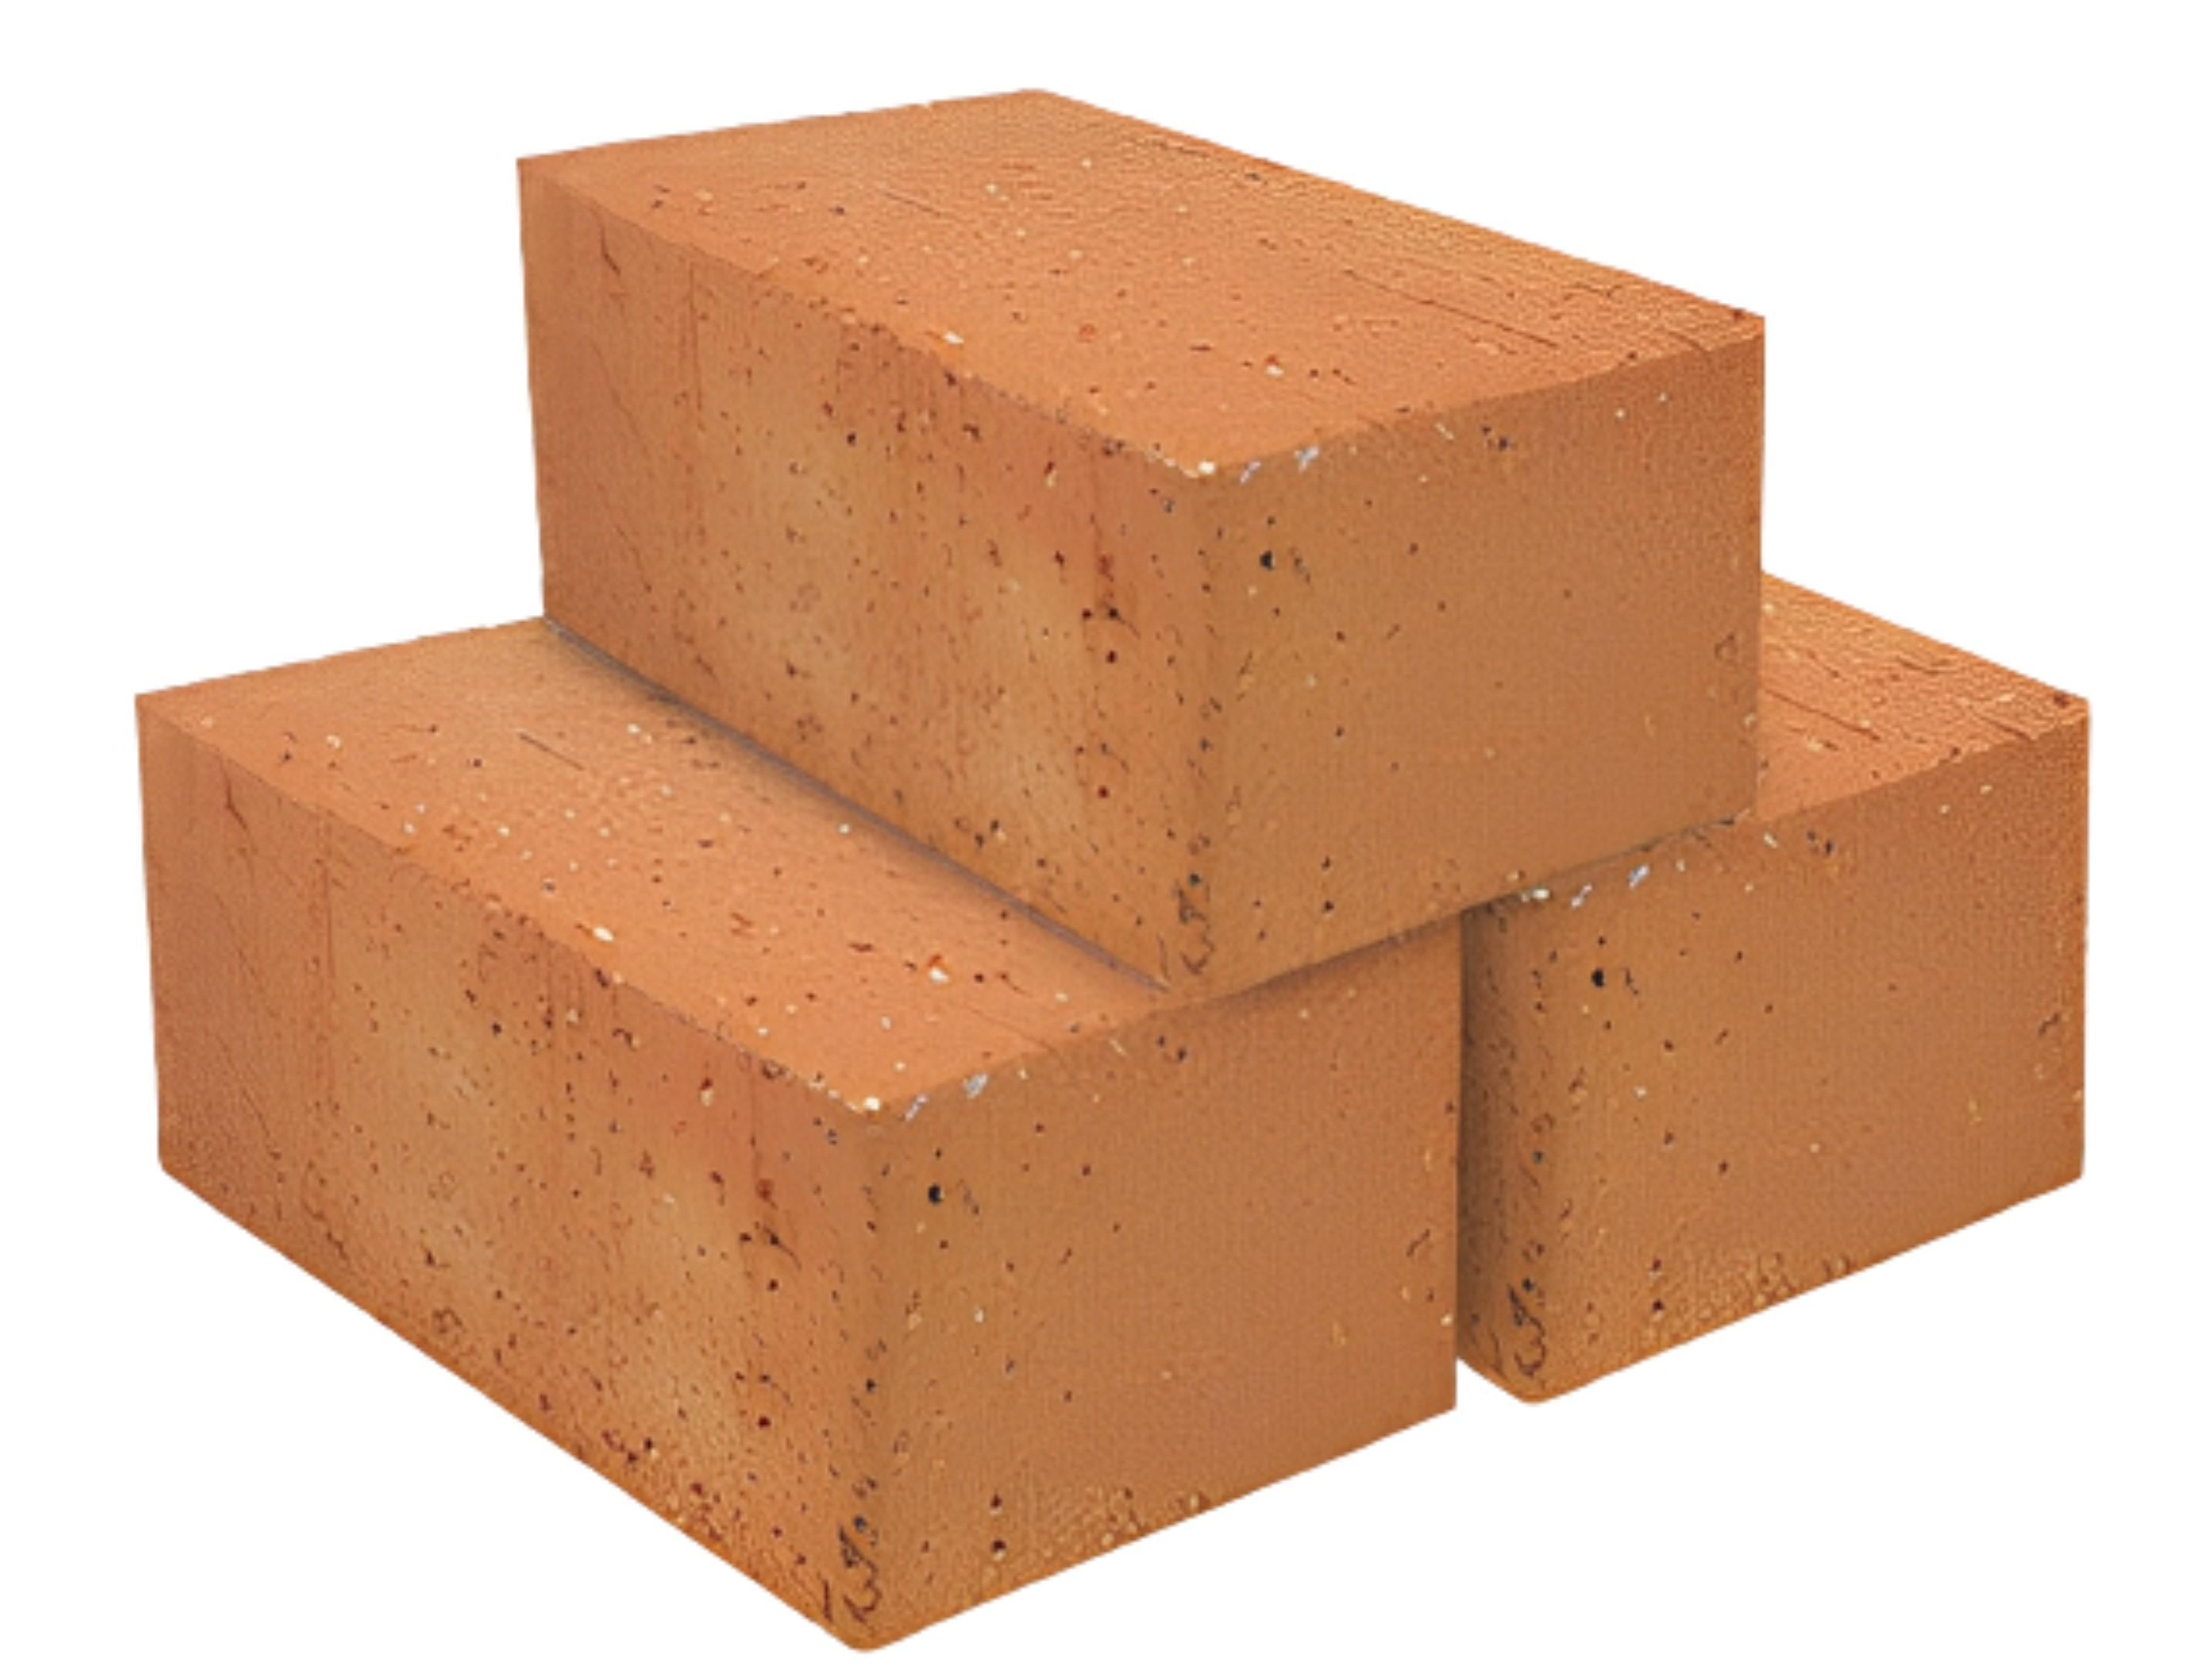Bricks: (134, 619, 1527, 1659), (514, 92, 1772, 997), (1444, 584, 2092, 1410)
